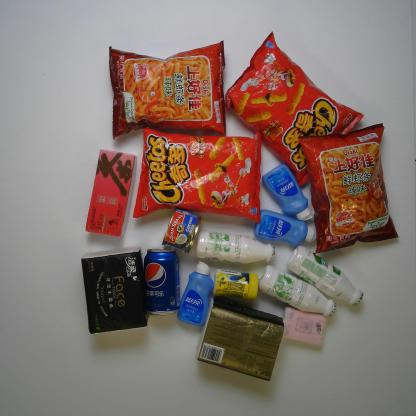Canned Food: (158, 203, 207, 257)
Drink: (139, 240, 183, 319)
Gum: (205, 262, 264, 302)
Instant Drink: (80, 147, 138, 239)
Milk: (283, 244, 371, 308), (251, 258, 343, 318), (190, 222, 280, 270)
Personal Hygiene: (252, 157, 319, 225), (247, 201, 320, 249), (173, 260, 218, 328)
Puffed Food: (217, 28, 370, 190), (298, 119, 409, 259), (129, 118, 271, 227), (99, 35, 235, 144)
Tissue: (190, 298, 292, 383), (77, 245, 152, 335), (278, 301, 329, 349)
